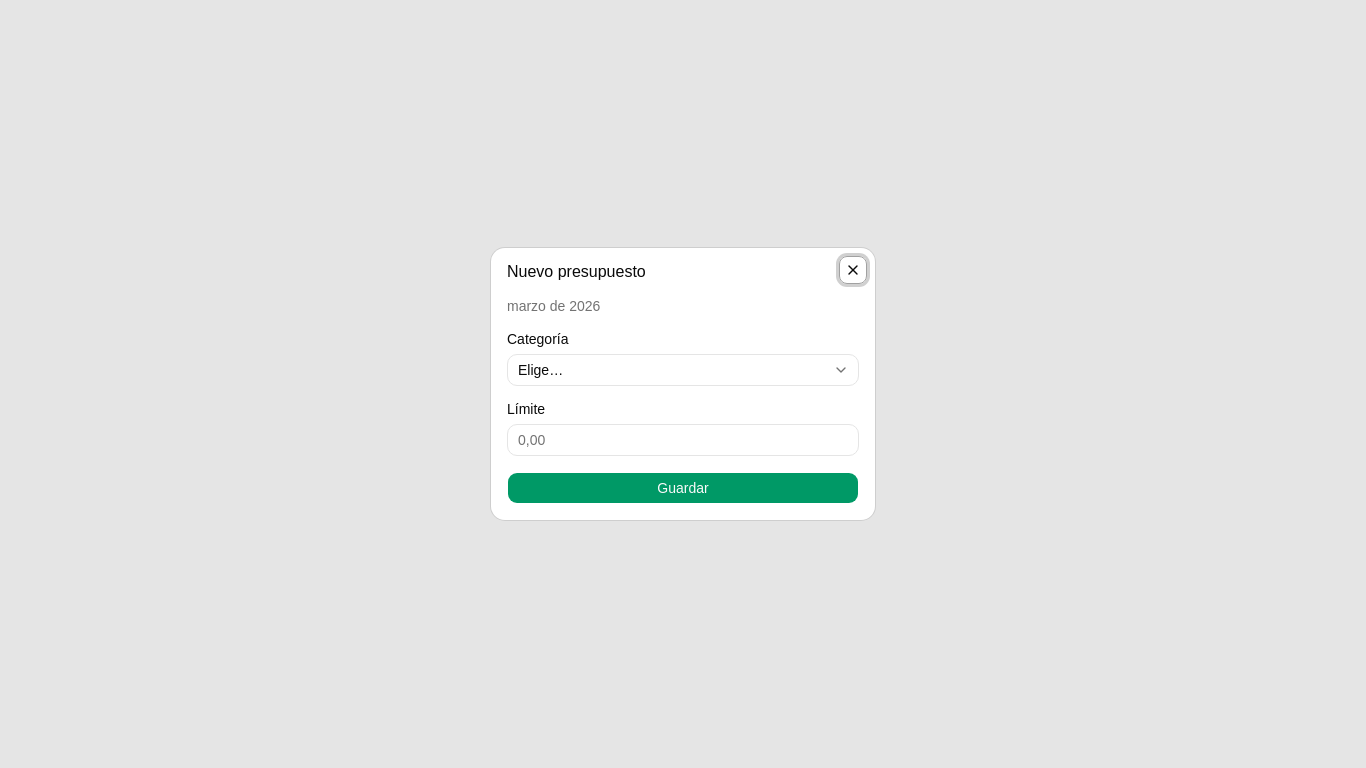
Scenario: BudgetDialog › validates before sending
Step 1. Type "abc" into the field labelled "Límite" → [683, 440], box 507,424 -> 859,456
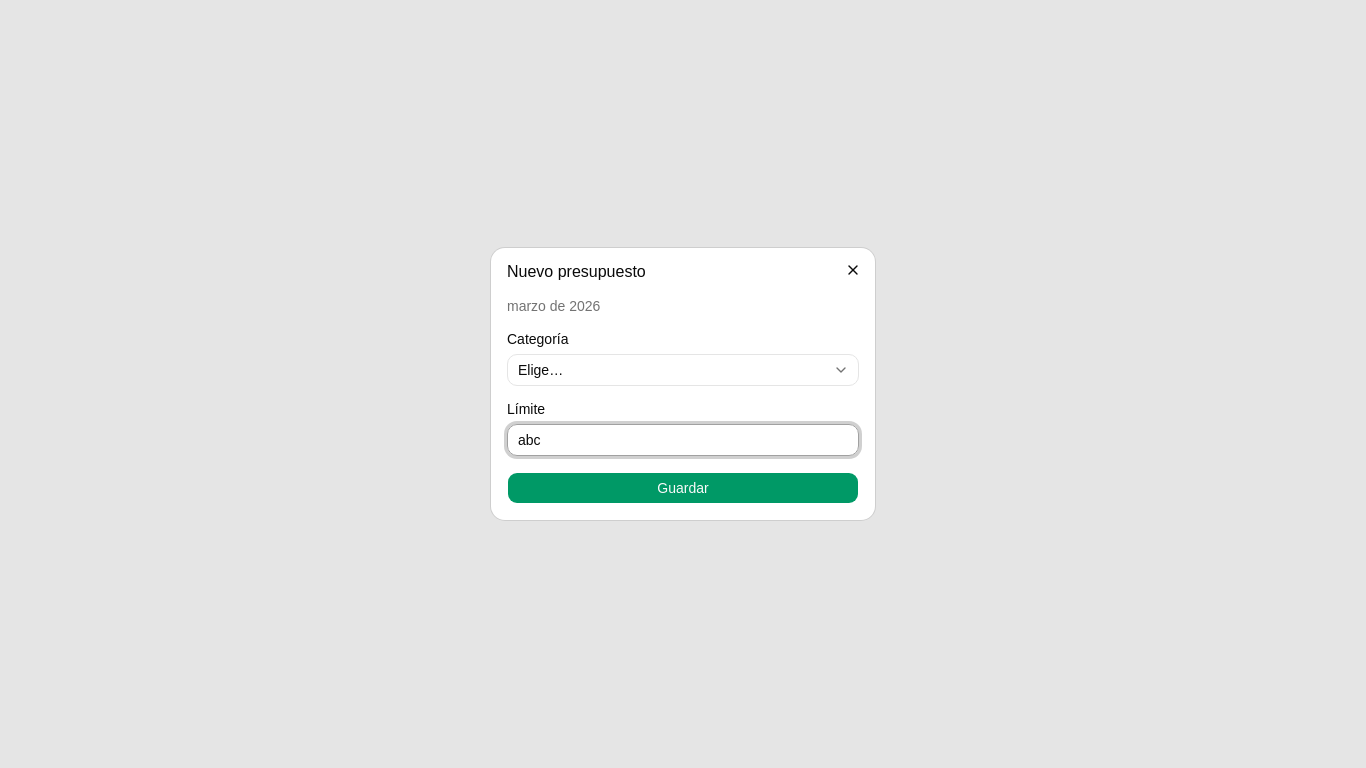
Step 2. Click the button "Guardar" → [683, 488], box 507,472 -> 859,504
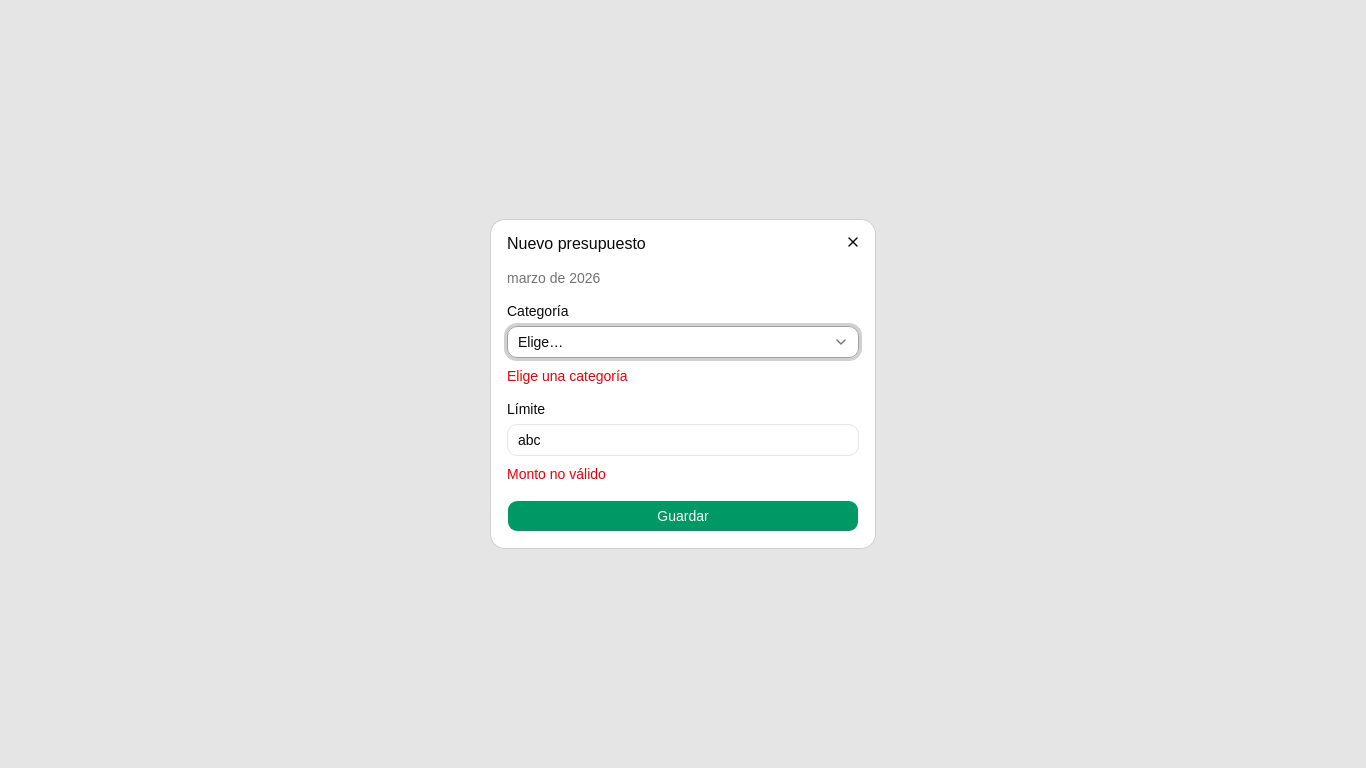
Now the text "Elige una categoría" is shown, box 507,368 -> 628,384
Now the text "Monto no válido" is shown, box 507,466 -> 606,482
